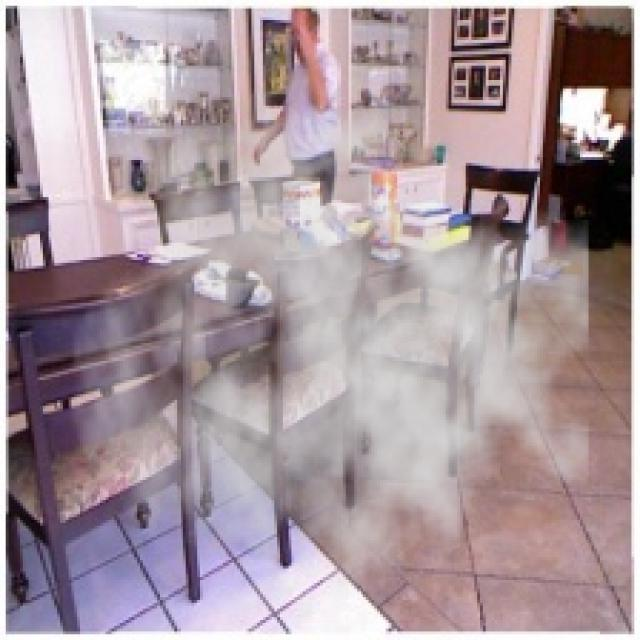Smoke: (69, 82, 588, 638)
